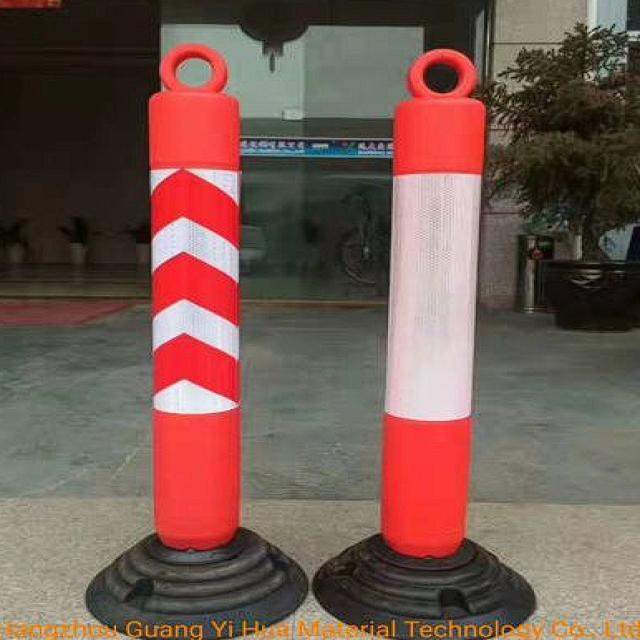obstacle: (139, 42, 251, 568), (381, 48, 484, 560)
